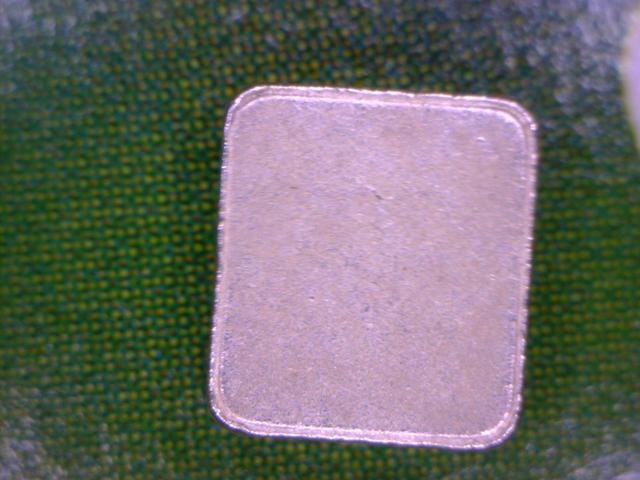nok: (201, 76, 543, 445)
